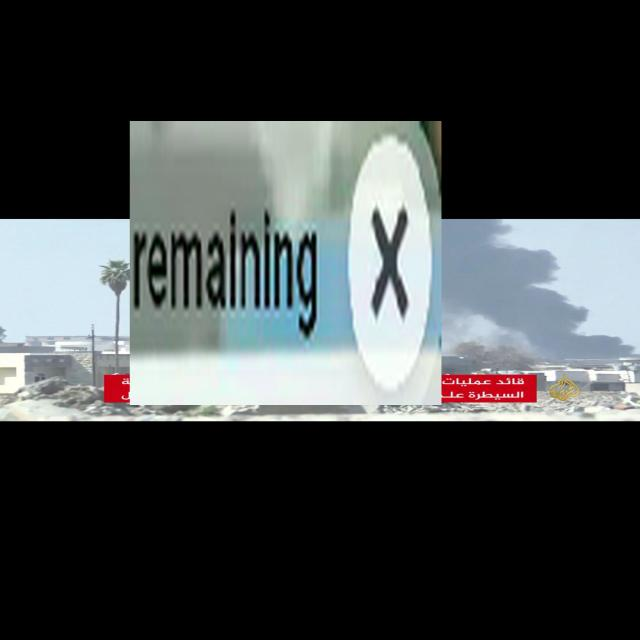misdirection: (130, 121, 441, 405)
